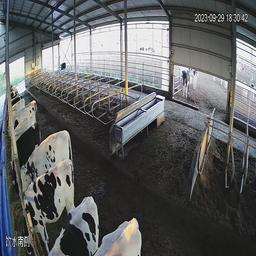cow: (11, 161, 77, 233), (9, 128, 76, 178), (49, 194, 101, 254), (94, 204, 145, 254), (4, 92, 40, 142), (180, 65, 191, 99), (193, 67, 198, 96)
